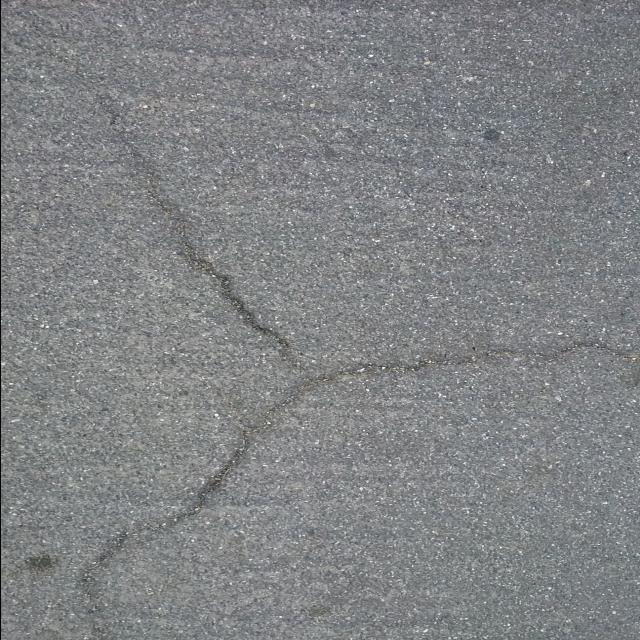Crack: (80, 175, 640, 640)
